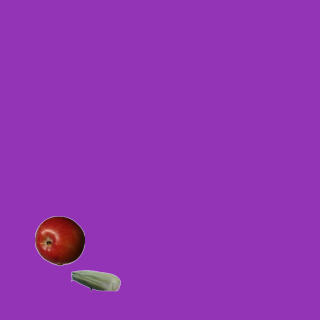Apple Braeburn: (34, 215, 84, 265)
Corn Husk: (70, 255, 120, 305)
